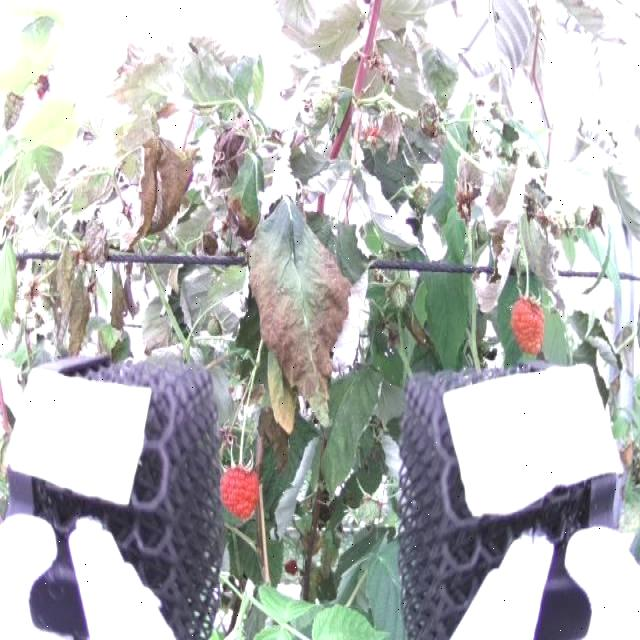Riped berries: (508, 290, 550, 355), (221, 459, 263, 517)
